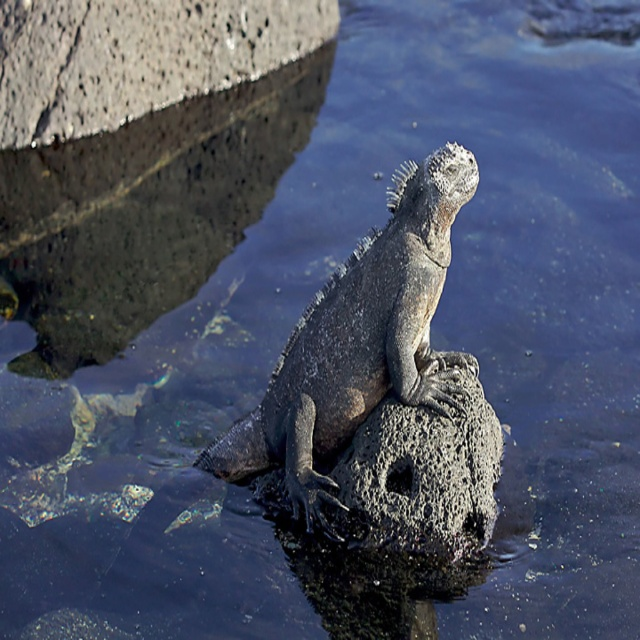Lizard: (240, 137, 478, 520)
